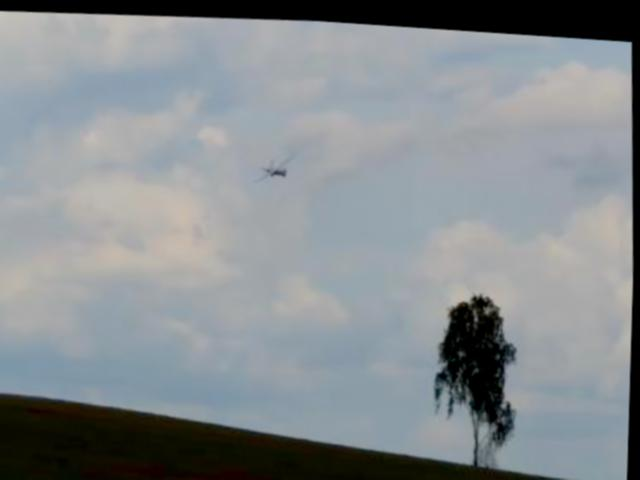uav: (250, 141, 302, 184)
